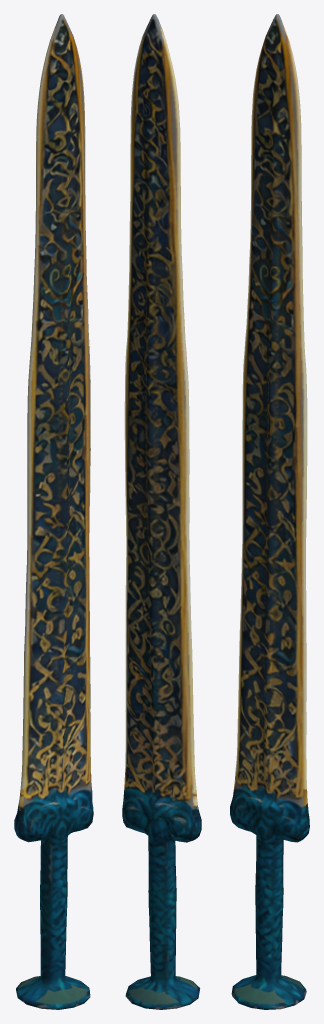
Rendered from tripo_convert_1c54599d-281f-412d-bfc2-0b91a89cd34f.obj.
3 renders of one model, left to right at view 1: azimuth 30°, elevation 25°; view 2: azimuth 150°, elevation 25°; view 3: azimuth 330°, elevation 25°, orthographic.
Visible parts, largest first — view 1: tripo_node_1c54599d-281f-412d-bfc2-0b91a89cd34f; view 2: tripo_node_1c54599d-281f-412d-bfc2-0b91a89cd34f; view 3: tripo_node_1c54599d-281f-412d-bfc2-0b91a89cd34f.
Boxes of the visible parts, x1,y1,x2,y2 form: tripo_node_1c54599d-281f-412d-bfc2-0b91a89cd34f: [14, 14, 93, 1009]; tripo_node_1c54599d-281f-412d-bfc2-0b91a89cd34f: [122, 14, 201, 1009]; tripo_node_1c54599d-281f-412d-bfc2-0b91a89cd34f: [230, 14, 309, 1009].
Bounding box in the file's own units: 0.0791 × 0.9987 × 0.0704.
Materials: 1 (1 with a texture image).
